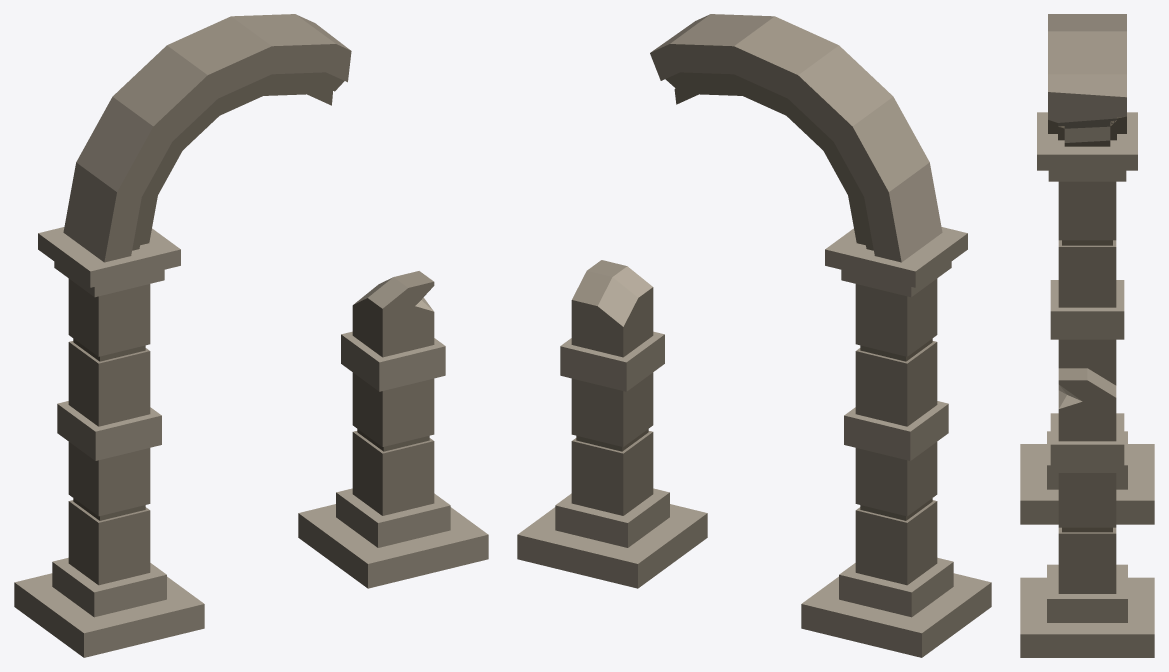
The model's file is SF_Prop_Archway_02.fbx.
3 views of the same model, side by side, from view 1: azimuth 30°, elevation 25°; view 2: azimuth 150°, elevation 25°; view 3: azimuth 270°, elevation 25° (orthographic). The views are drawn at different scales.
Parts seen in each view (by area): view 1: SF_Prop_Archway_02; view 2: SF_Prop_Archway_02; view 3: SF_Prop_Archway_02.
Part boxes in pixels (x1,y1,x2,y2): SF_Prop_Archway_02: (14,14,488,657); SF_Prop_Archway_02: (517,14,991,657); SF_Prop_Archway_02: (1020,14,1154,657).
Bounding box in the file's own units: 5.56 × 7.25 × 1.66.
